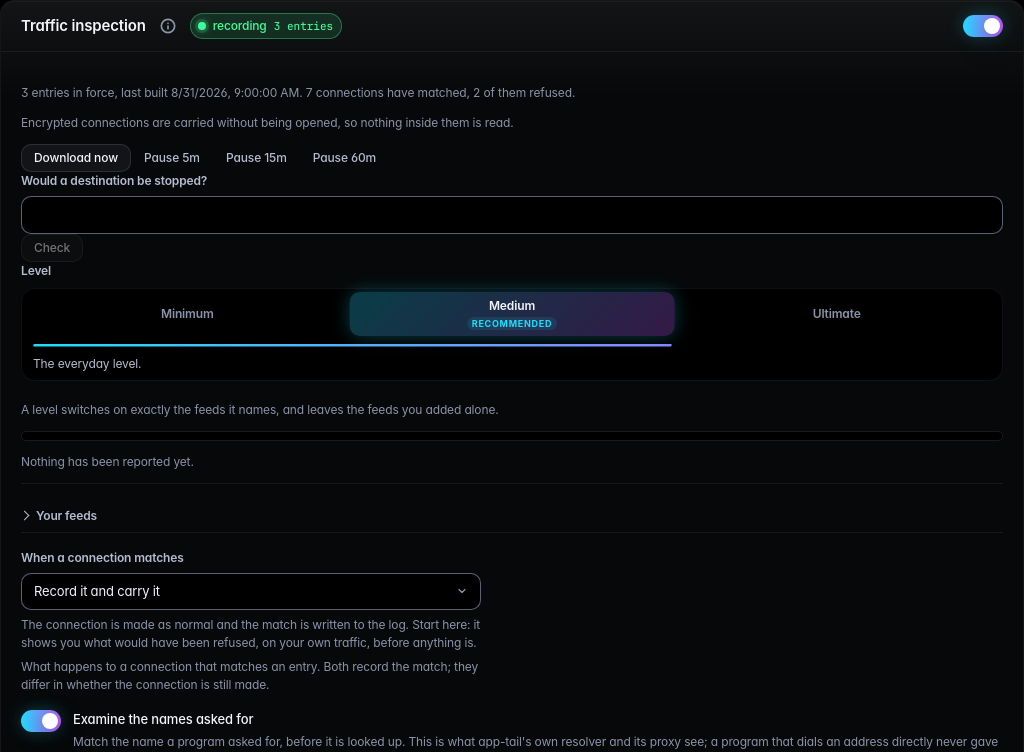
Test: pausing inspection › shows what the agent refused rather than dropping it
The width and height of the screenshot is (1024, 752).
Click the button with aria-label "Pause inspection for 5 minutes" at coordinates (172, 158), box x1=131 y1=144 x2=213 y2=172
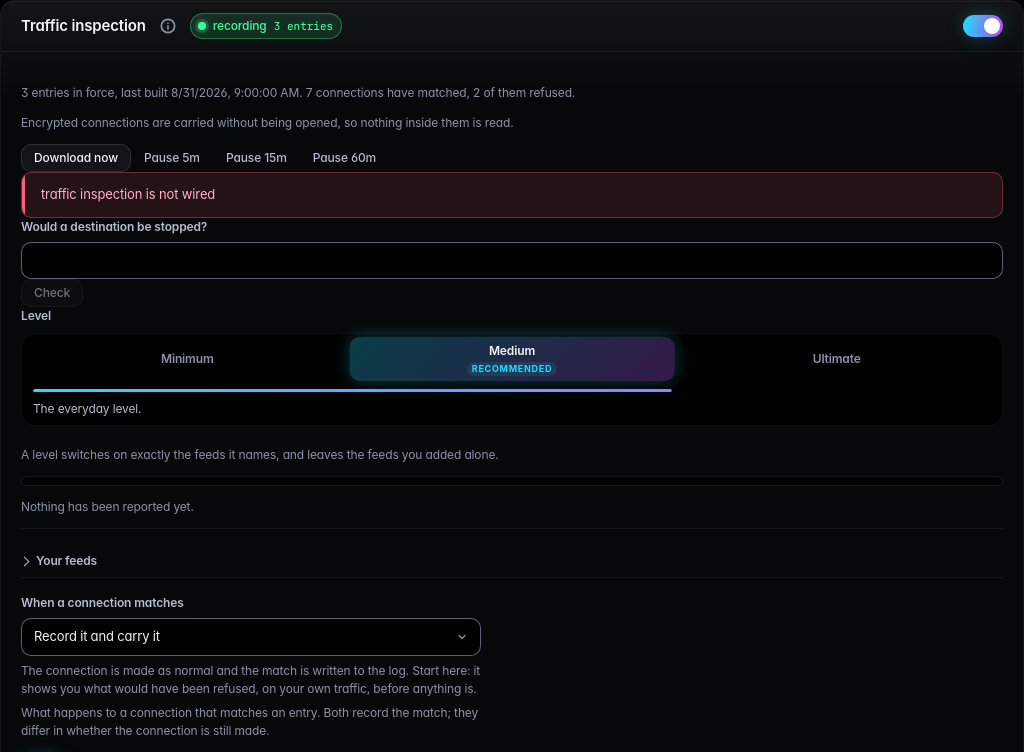
Expected: the text "traffic inspection is not wired" is shown, x1=21 y1=172 x2=1003 y2=218
